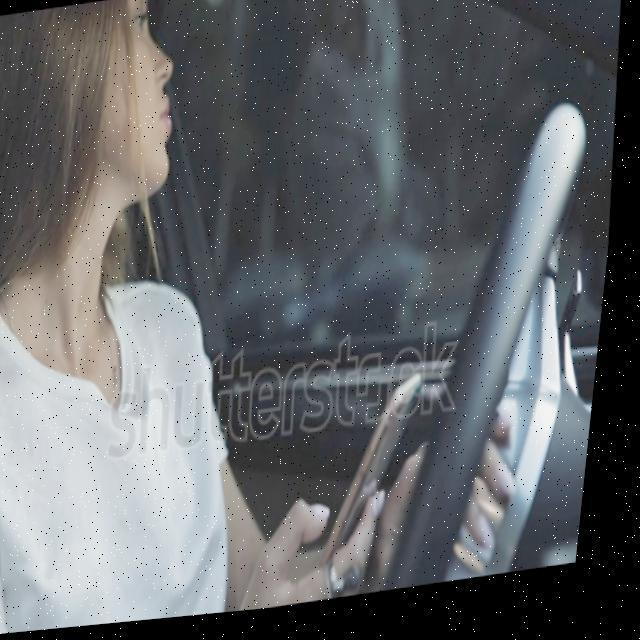PhoneCall: (324, 382, 440, 582)
